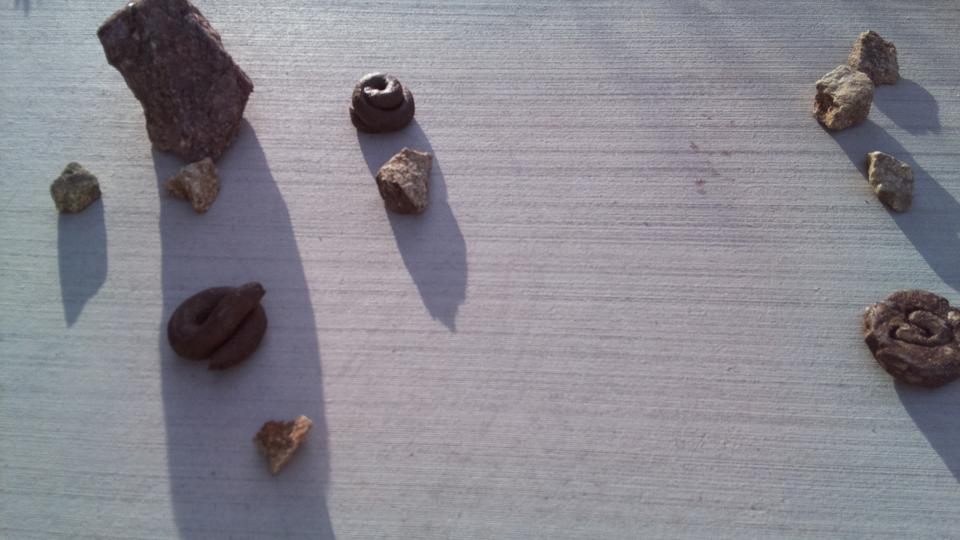poop: (860, 285, 960, 393), (165, 277, 273, 374), (347, 70, 421, 139)
